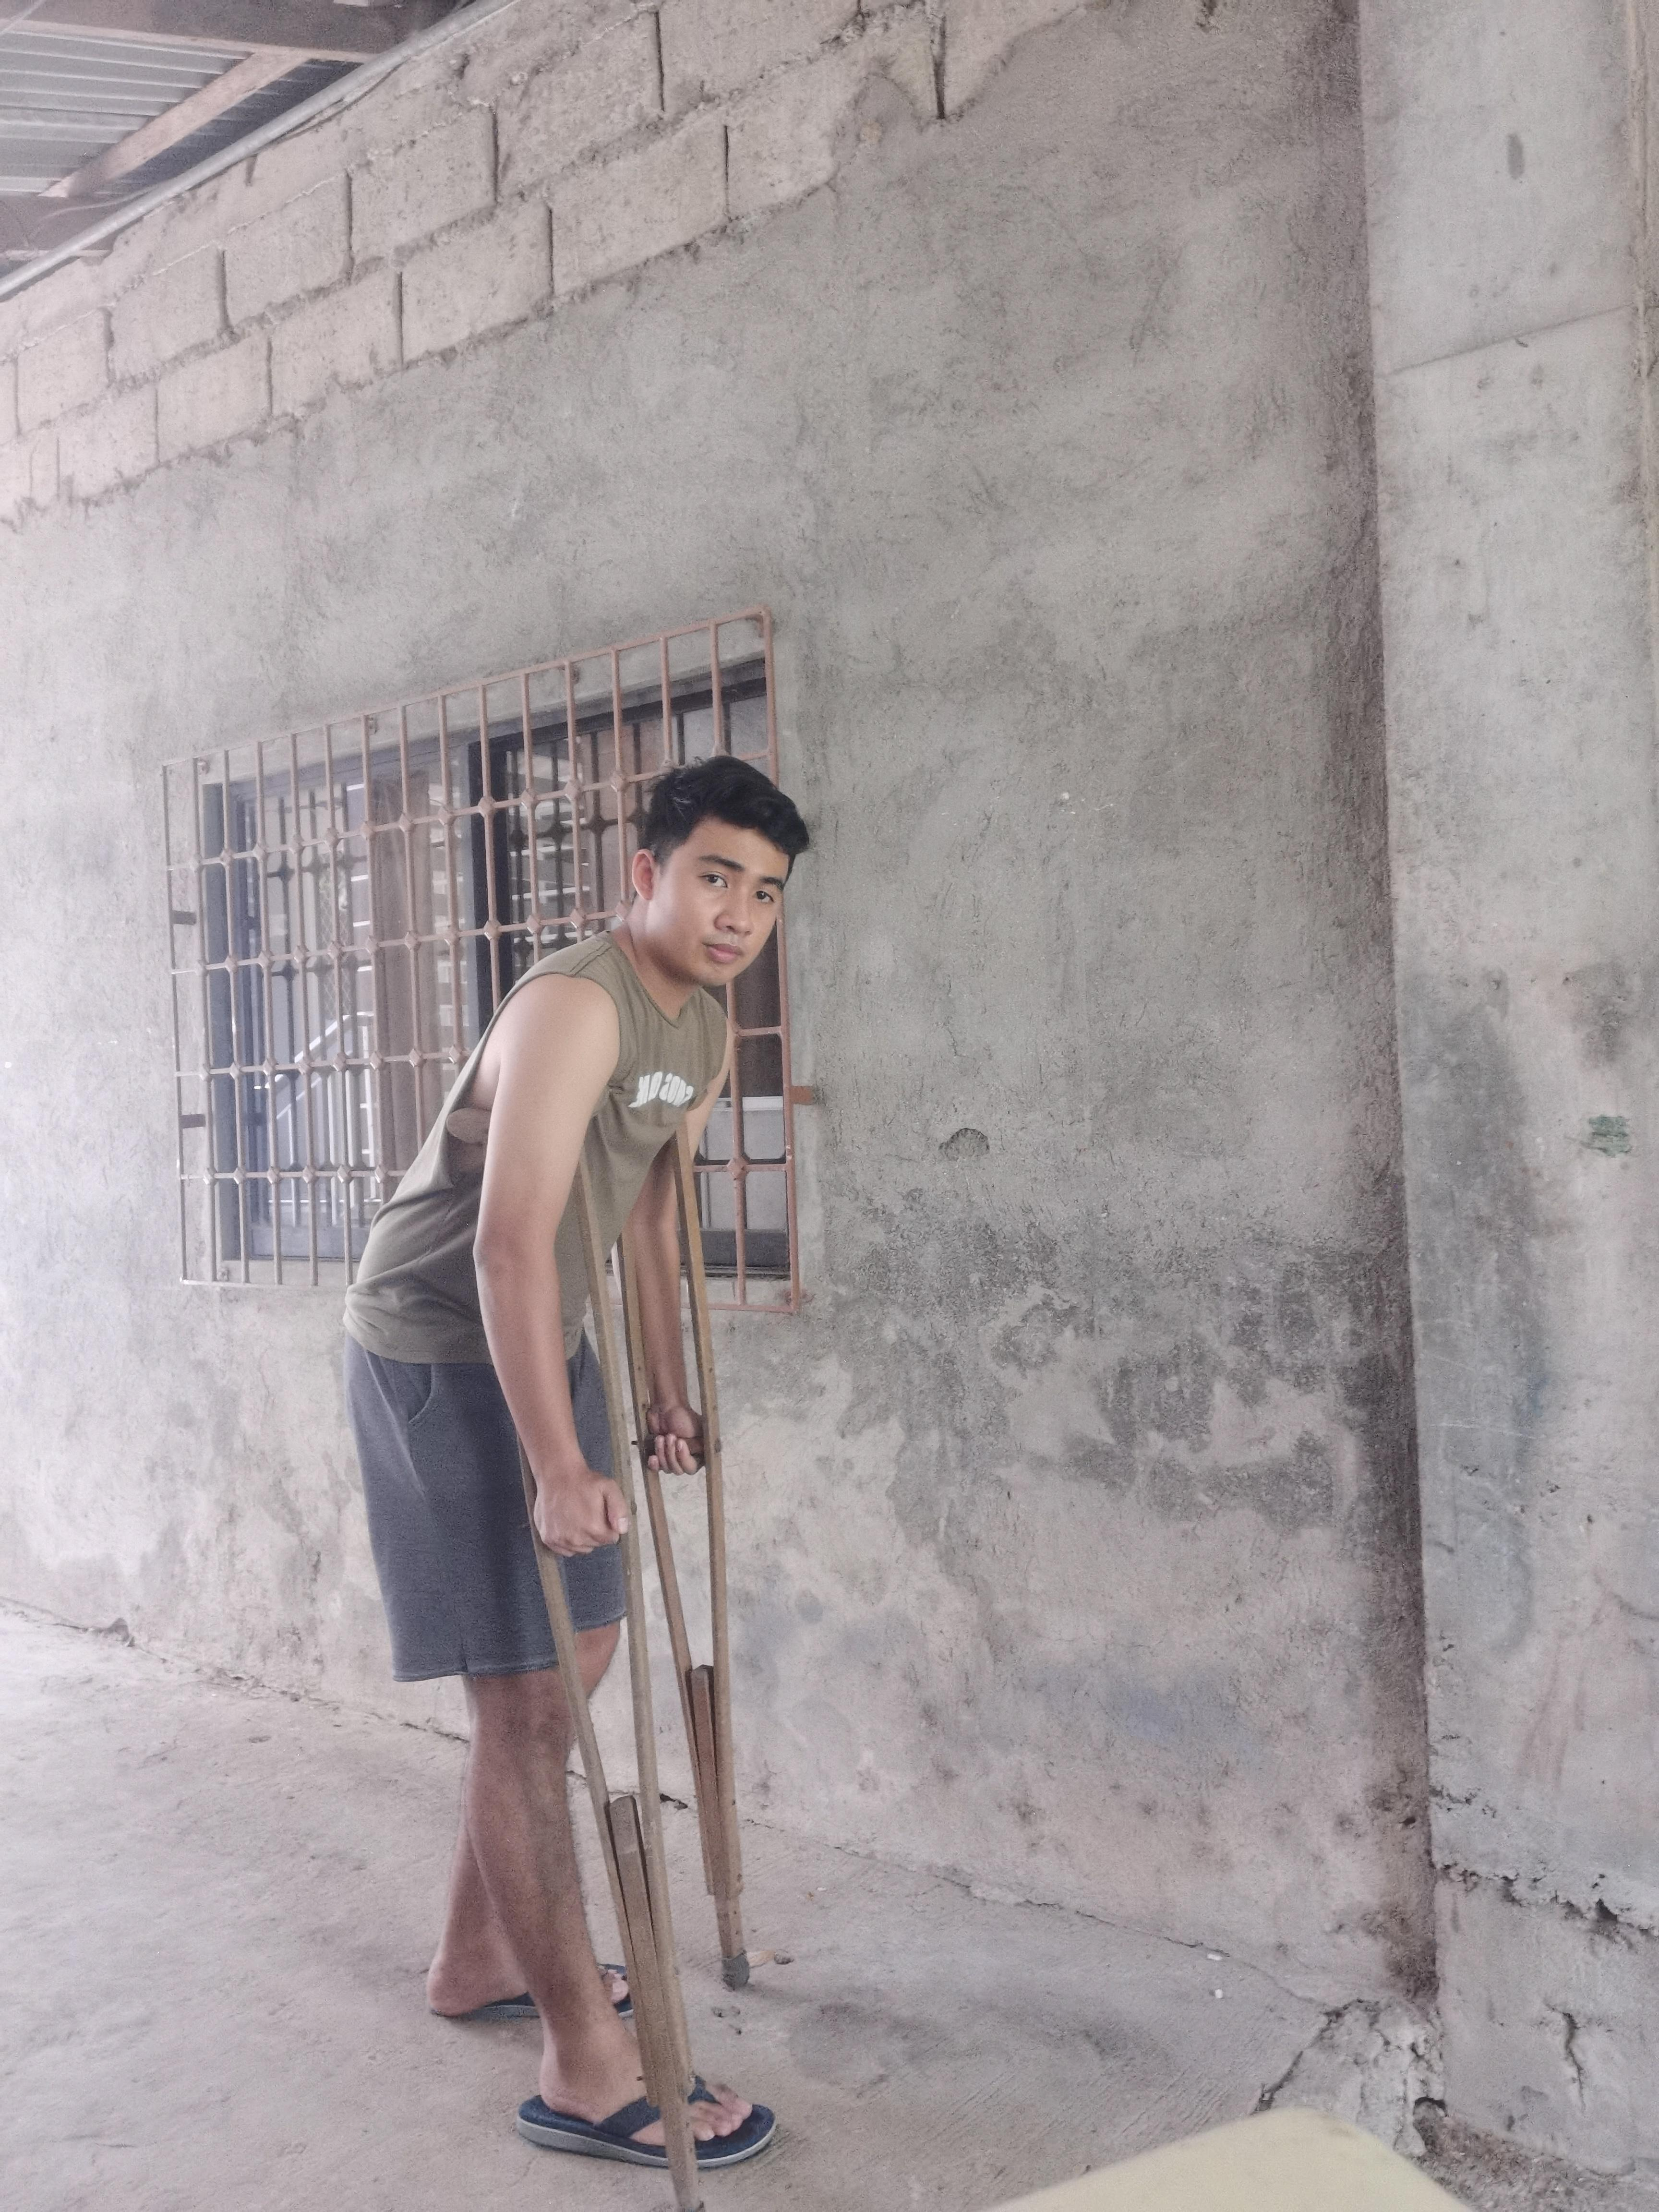crutches: (342, 730, 817, 2212)
